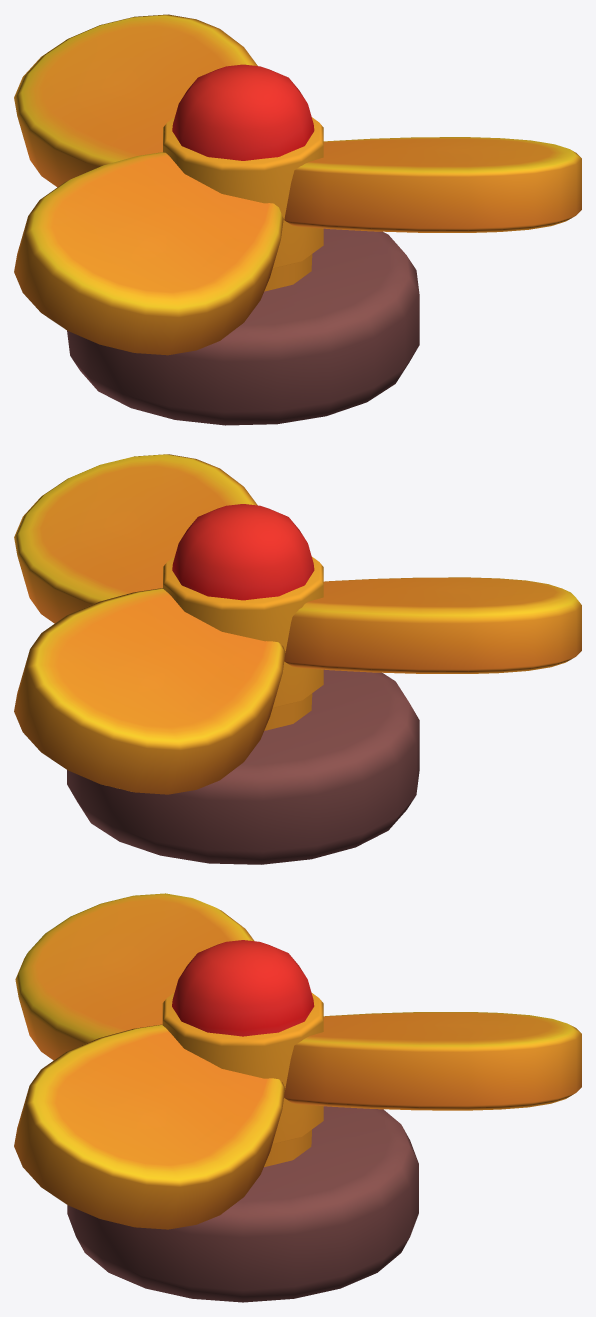
Rendered from Spin.fbx.
The picture shows the model from 3 angles, top to bottom: view 1: azimuth 30°, elevation 25°; view 2: azimuth 150°, elevation 25°; view 3: azimuth 270°, elevation 25°; orthographic projection.
Visible parts, largest first — view 1: Spin; view 2: Spin; view 3: Spin.
Part boxes in pixels (left/top/right/bottom): Spin: left=14, top=14, right=581, bottom=425; Spin: left=14, top=454, right=581, bottom=864; Spin: left=14, top=893, right=581, bottom=1302.
Size of the model in its own units: 39.34 by 20.15 by 35.97.
